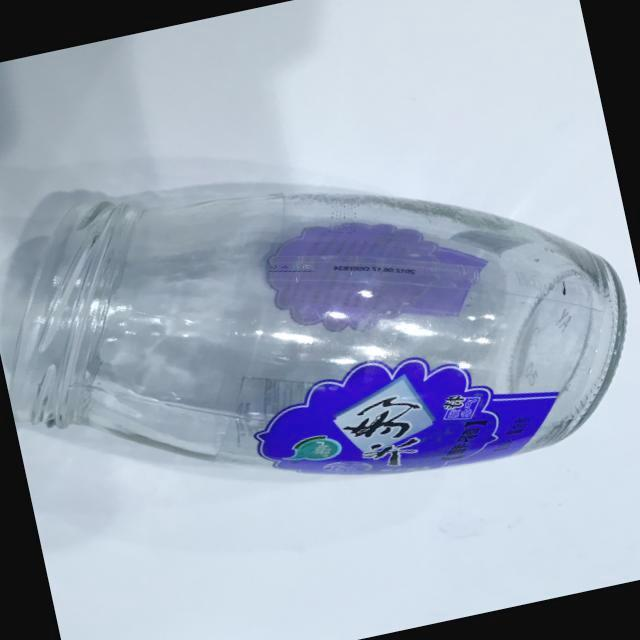glass: (0, 79, 640, 562)
